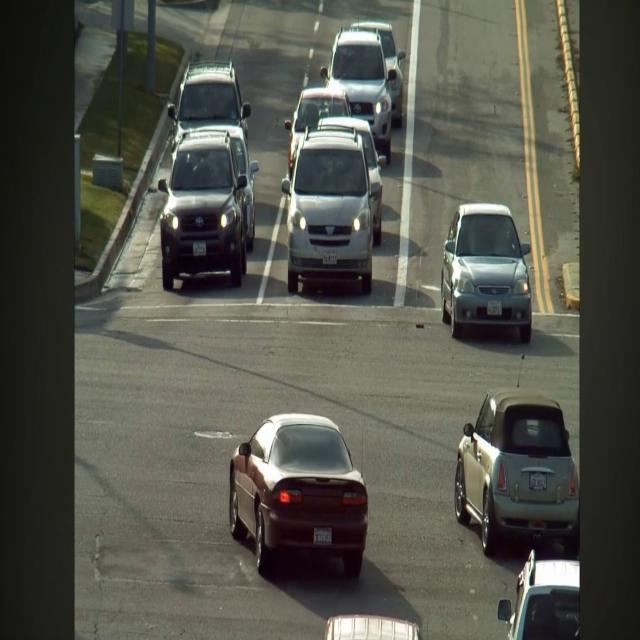car: (229, 414, 367, 578), (454, 387, 579, 557), (282, 128, 379, 295), (158, 129, 248, 290), (441, 203, 531, 343), (320, 28, 397, 164), (319, 118, 385, 246), (167, 61, 251, 149), (498, 551, 579, 639), (207, 125, 259, 252), (284, 88, 350, 177), (352, 21, 406, 127), (324, 616, 422, 639)
